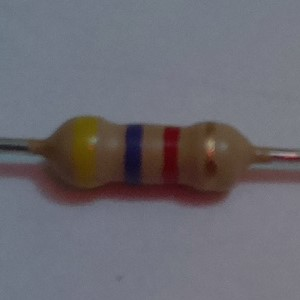gold_band: (203, 120, 218, 193)
red_band: (161, 125, 182, 186)
violet_band: (121, 122, 146, 187)
yellow_band: (71, 114, 102, 191)
